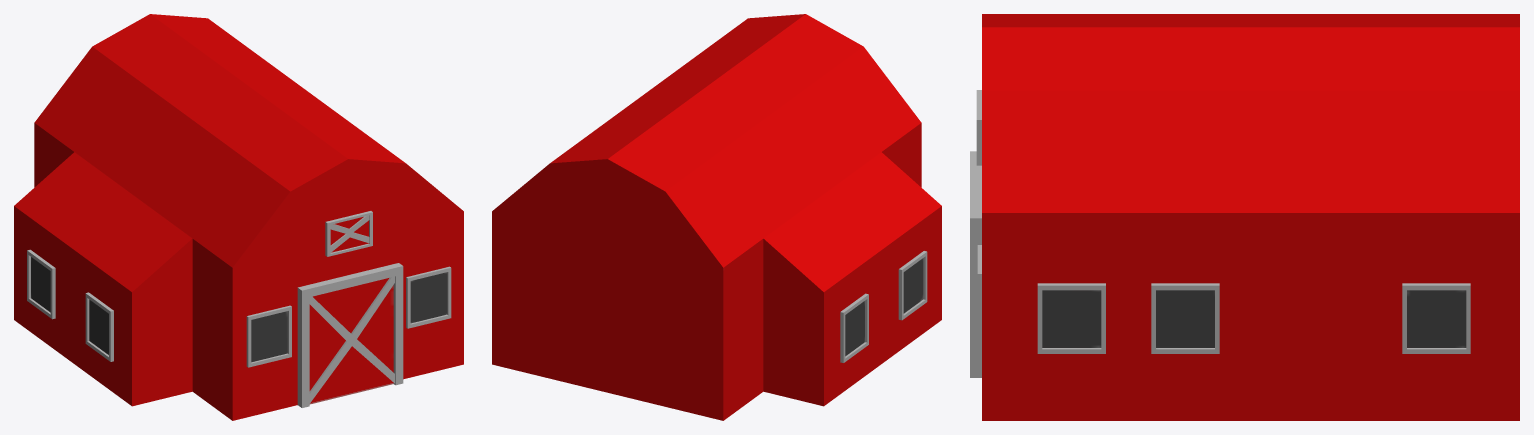
Rendered from Barn.glb.
The picture shows the model from 3 angles, left to right: view 1: azimuth 30°, elevation 25°; view 2: azimuth 150°, elevation 25°; view 3: azimuth 270°, elevation 25°; orthographic projection. The views are drawn at different scales.
Parts seen in each view (by area): view 1: Barn; view 2: Barn; view 3: Barn.
Boxes of the visible parts, left/top/right/bottom form: Barn: left=14, top=14, right=463, bottom=420; Barn: left=492, top=14, right=941, bottom=420; Barn: left=970, top=14, right=1519, bottom=420.
Size of what is drawn, in the model's own units: 6.88 by 5.15 by 8.09.
1 material, 1 textured.
